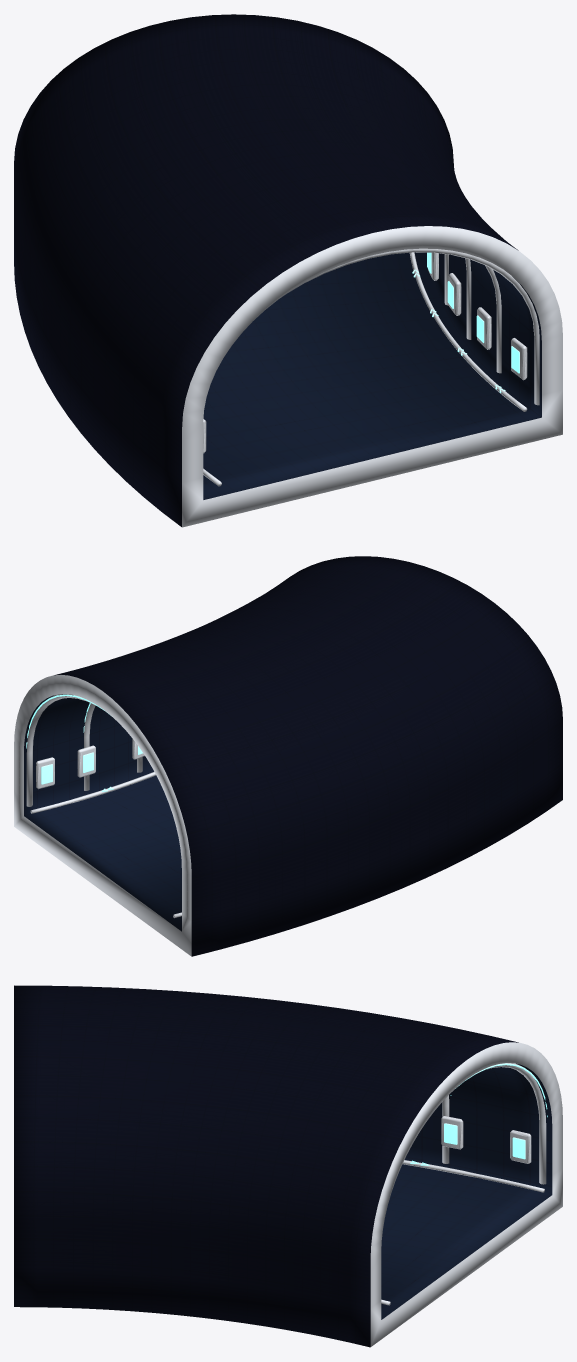
The model's file is curve_right_30_lod1.glb.
3 views of the same model, one above another, from view 1: azimuth 30°, elevation 25°; view 2: azimuth 150°, elevation 25°; view 3: azimuth 270°, elevation 25° (orthographic). The views are drawn at different scales.
Parts seen in each view (by area): view 1: TunnelGeometry.001; view 2: TunnelGeometry.001; view 3: TunnelGeometry.001.
Part boxes in pixels (box(x1,y1,x2,y2)): TunnelGeometry.001: box(14, 14, 562, 527); TunnelGeometry.001: box(14, 556, 562, 956); TunnelGeometry.001: box(14, 985, 562, 1347).
Size of the model in its own units: 19.1 by 9.52 by 21.83.
Materials: 4 (2 with a texture image).
